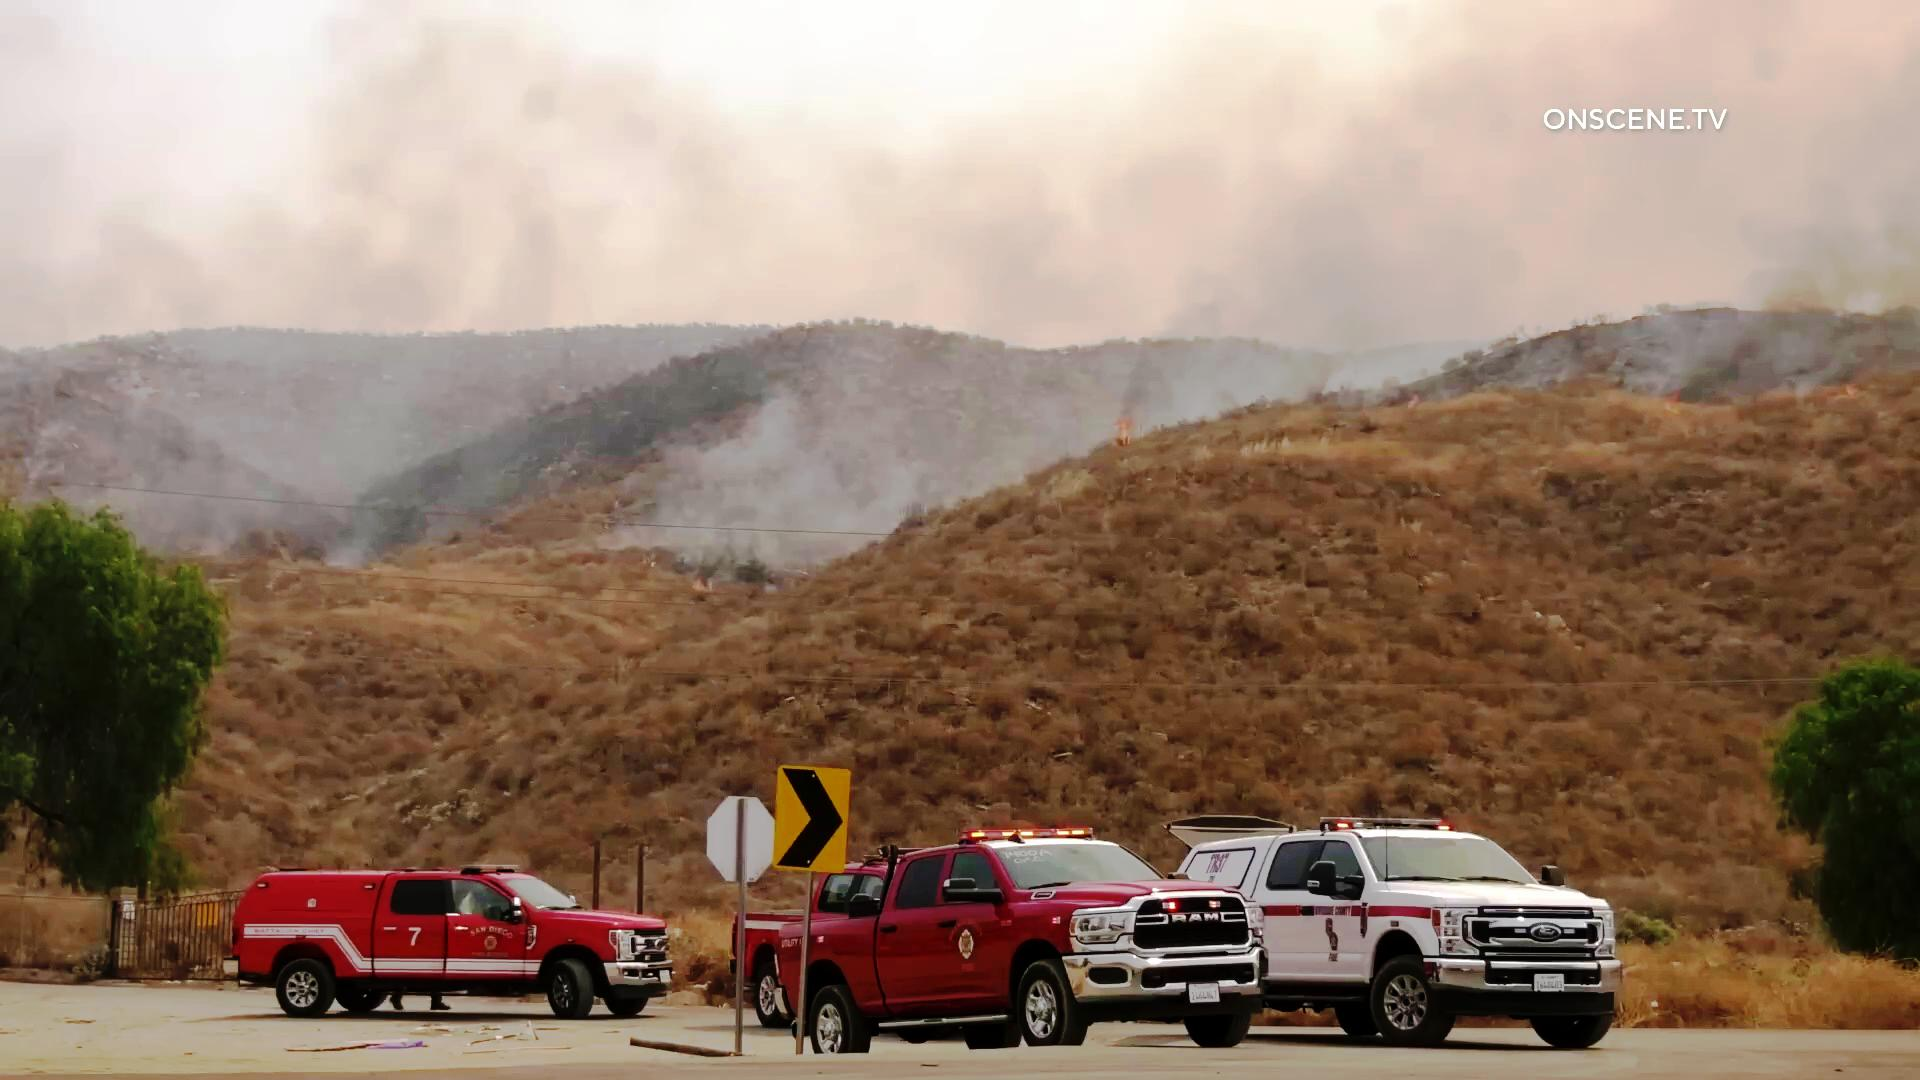smoke: (303, 21, 617, 328), (1726, 211, 1919, 409), (1098, 307, 1207, 418)
